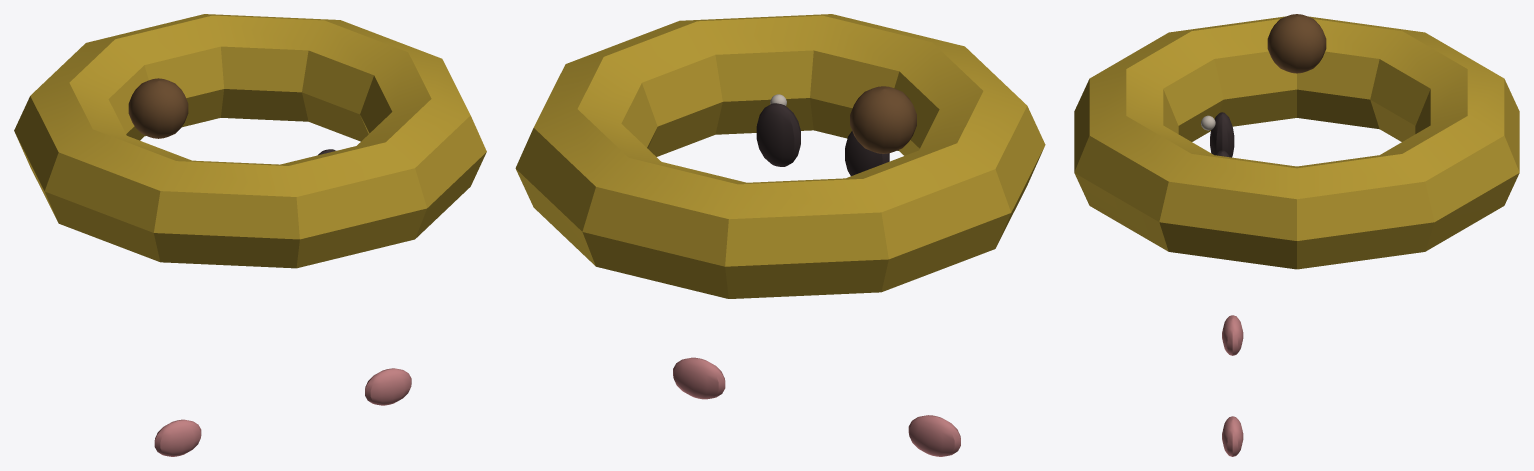
3 renders of one model, left to right at view 1: azimuth 30°, elevation 25°; view 2: azimuth 150°, elevation 25°; view 3: azimuth 270°, elevation 25°, orthographic. The views are drawn at different scales.
Parts seen in each view (by area): view 1: pet_p85976684; view 2: pet_p85976684; view 3: pet_p85976684.
Boxes of the visible parts, x1=… form: pet_p85976684: x1=14, y1=14, x2=486, y2=456; pet_p85976684: x1=515, y1=14, x2=1045, y2=456; pet_p85976684: x1=1074, y1=14, x2=1519, y2=456.
Bounding box in the file's own units: 0.47 × 0.3789 × 0.447.
